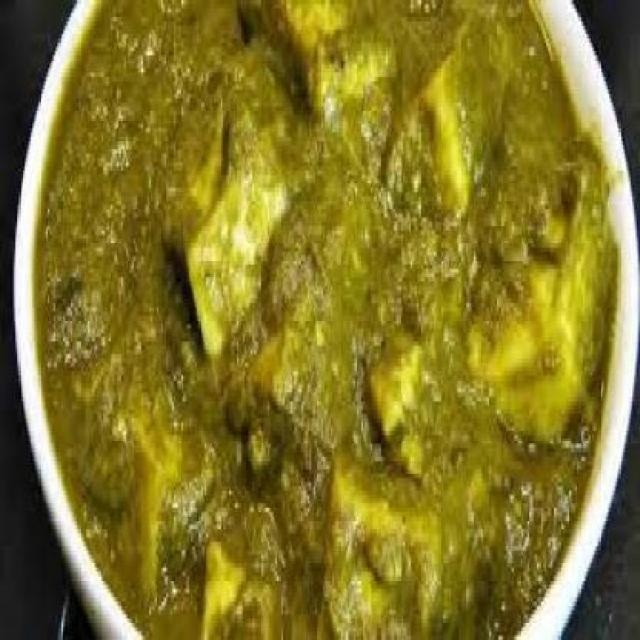palak_paneer: (36, 0, 618, 640)
